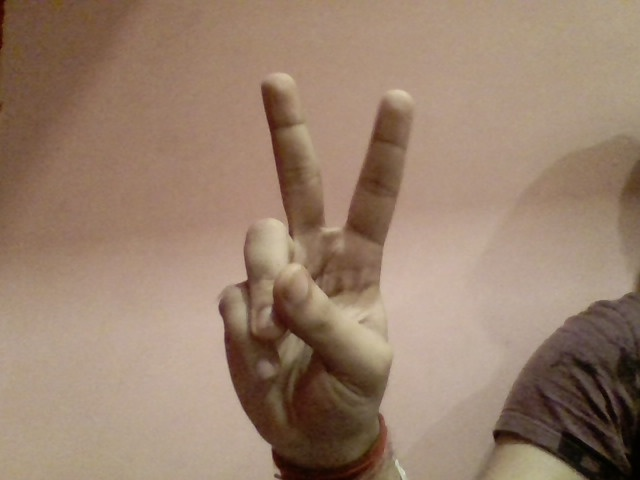v: (199, 62, 425, 458)
